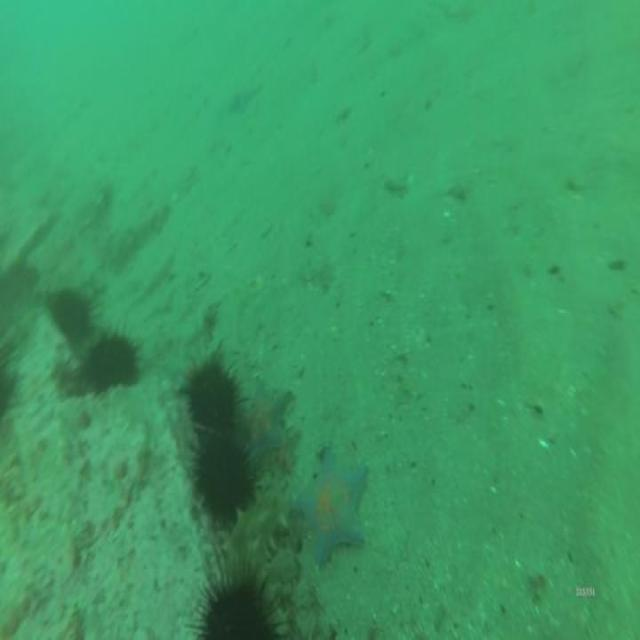echinus: (198, 578, 272, 640), (196, 442, 246, 520), (189, 368, 233, 427), (89, 338, 137, 387), (52, 291, 90, 338)
starfish: (296, 447, 365, 561), (248, 387, 290, 462)
